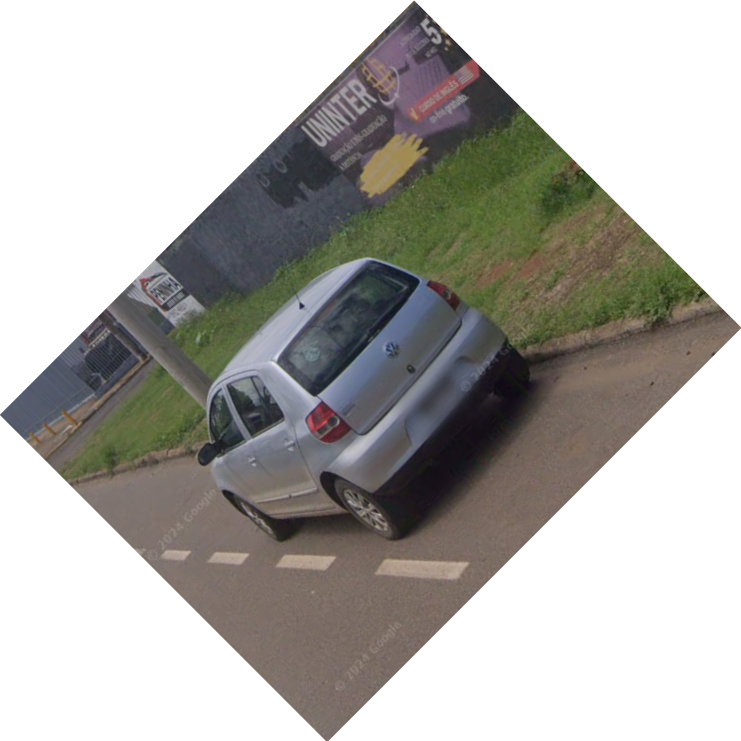car: (181, 253, 536, 547)
